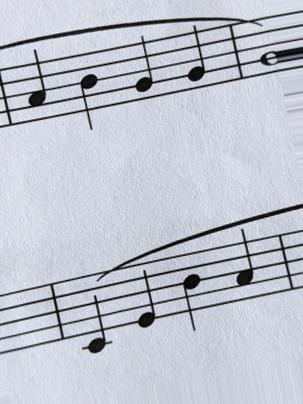note: (77, 274, 116, 357), (181, 251, 205, 340), (233, 224, 258, 308), (130, 261, 160, 331), (76, 50, 100, 134), (25, 48, 52, 122), (132, 34, 158, 103), (184, 27, 212, 88)
